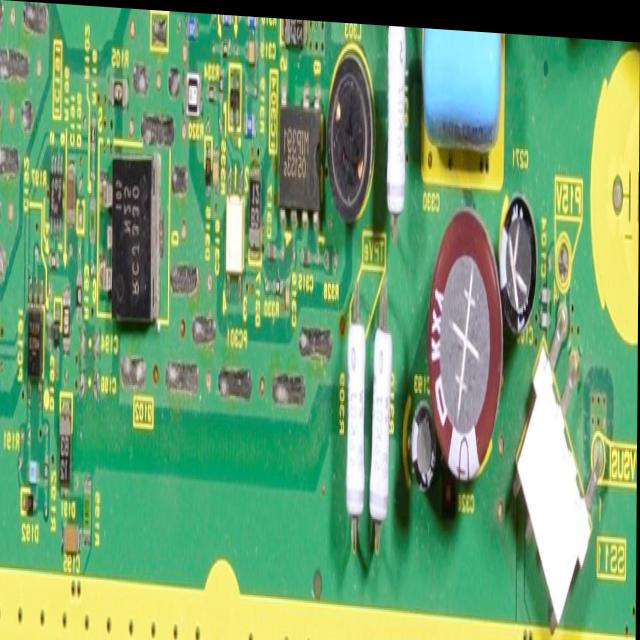IC: (272, 97, 329, 221)
capacitor: (426, 200, 503, 484), (416, 22, 506, 182), (426, 22, 505, 166), (490, 177, 546, 355), (61, 157, 78, 236), (62, 514, 83, 561), (211, 137, 221, 212), (243, 29, 262, 65), (284, 262, 293, 323), (264, 235, 277, 263), (299, 237, 311, 265), (45, 311, 52, 358)
resistor: (366, 307, 401, 530), (381, 20, 412, 228), (343, 318, 374, 521), (183, 73, 203, 126), (106, 69, 129, 112), (258, 264, 280, 307), (82, 474, 93, 553), (60, 286, 71, 351), (322, 240, 340, 274), (88, 193, 98, 254), (86, 104, 97, 158), (75, 268, 85, 327), (53, 297, 61, 363), (183, 10, 199, 42), (47, 242, 62, 273), (205, 73, 220, 103), (242, 108, 255, 140), (219, 32, 233, 61), (43, 450, 51, 500), (215, 64, 225, 101), (244, 13, 260, 27), (218, 11, 234, 23), (0, 335, 0, 369)
transistor: (98, 129, 165, 338)
